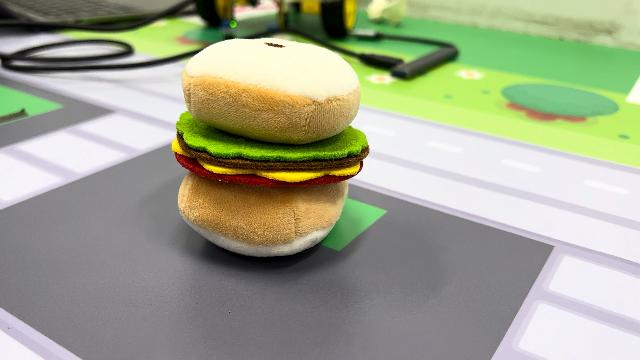sandwich: (170, 35, 370, 259)
